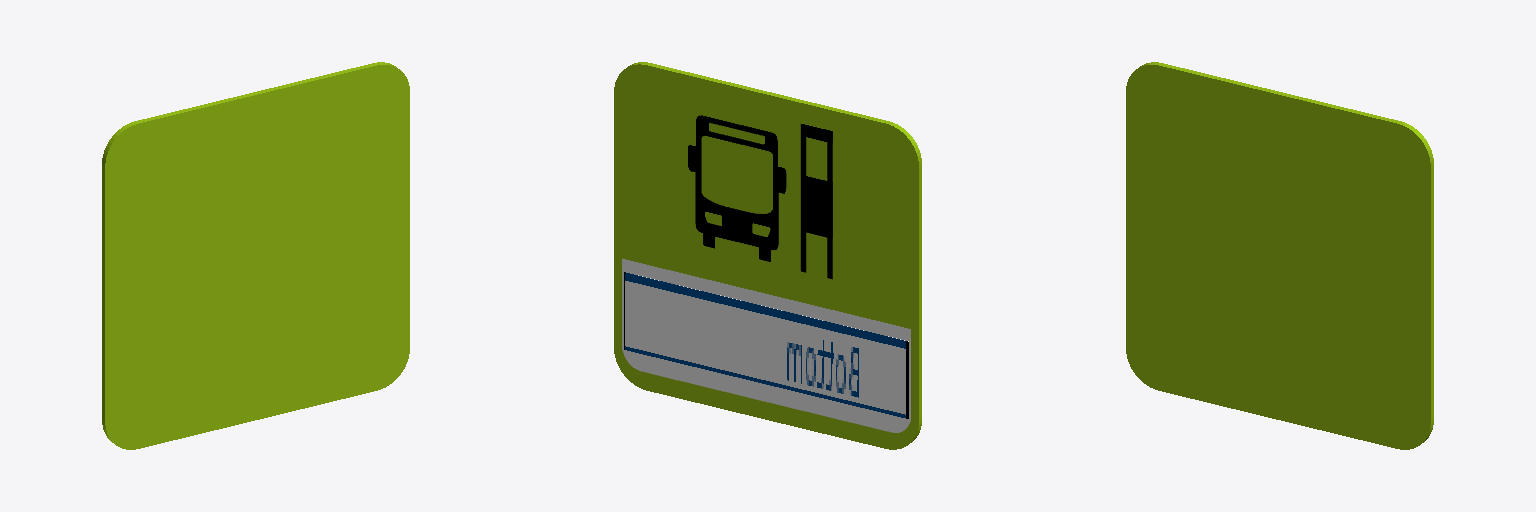
3 views of the same model, side by side, from view 1: azimuth 30°, elevation 25°; view 2: azimuth 150°, elevation 25°; view 3: azimuth 330°, elevation 25° (orthographic).
Parts seen in each view (by area): view 1: Mesh1 Group2 Group1 Model; view 2: Mesh1 Group2 Group1 Model, Mesh3 Component_5_1 Group1 Model; view 3: Mesh1 Group2 Group1 Model.
Part boxes in pixels (bbox=[...]): Mesh1 Group2 Group1 Model: bbox=[102, 62, 409, 449]; Mesh1 Group2 Group1 Model: bbox=[614, 62, 921, 449]; Mesh3 Component_5_1 Group1 Model: bbox=[624, 272, 908, 418]; Mesh1 Group2 Group1 Model: bbox=[1126, 62, 1433, 449].
Size of the model in its own units: 0.539 by 0.5495 by 0.0104.
Materials: 4 (3 with a texture image).